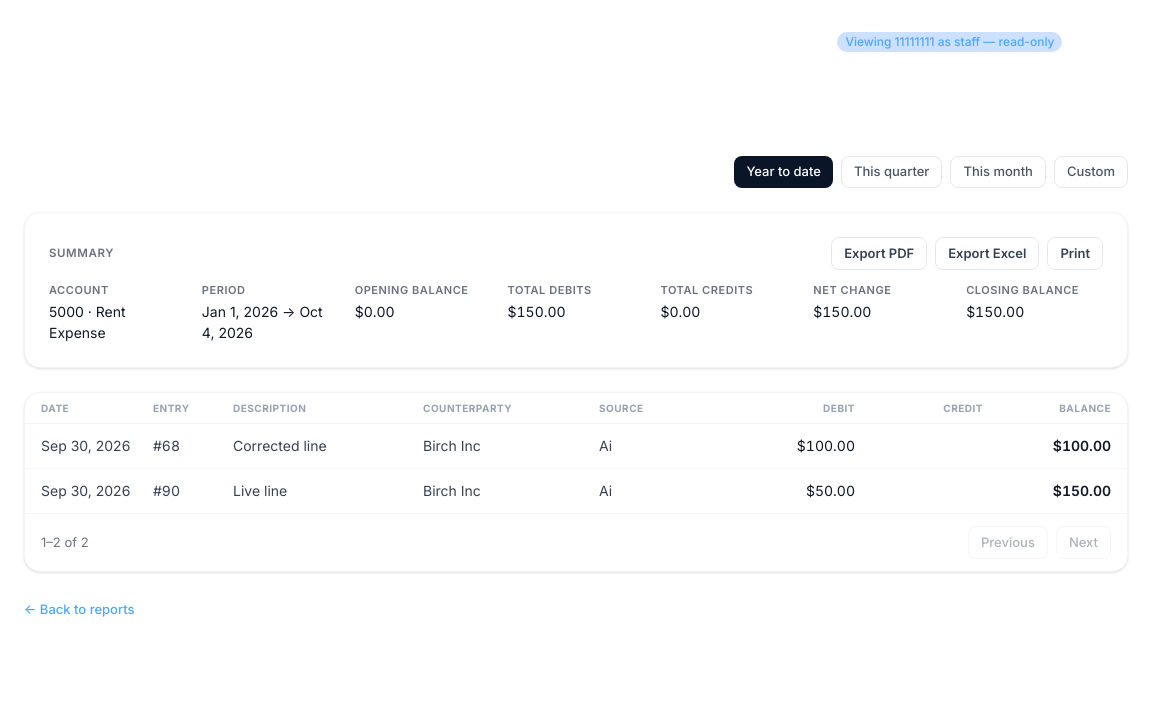
staff account ledger — writes on the live entry only (D-S85-13) › offers the staff writes on a live entry
The image size is (1152, 720).
Click the text "Live line".
click(260, 490)  # box [217, 468, 407, 513]
(page scrolled)
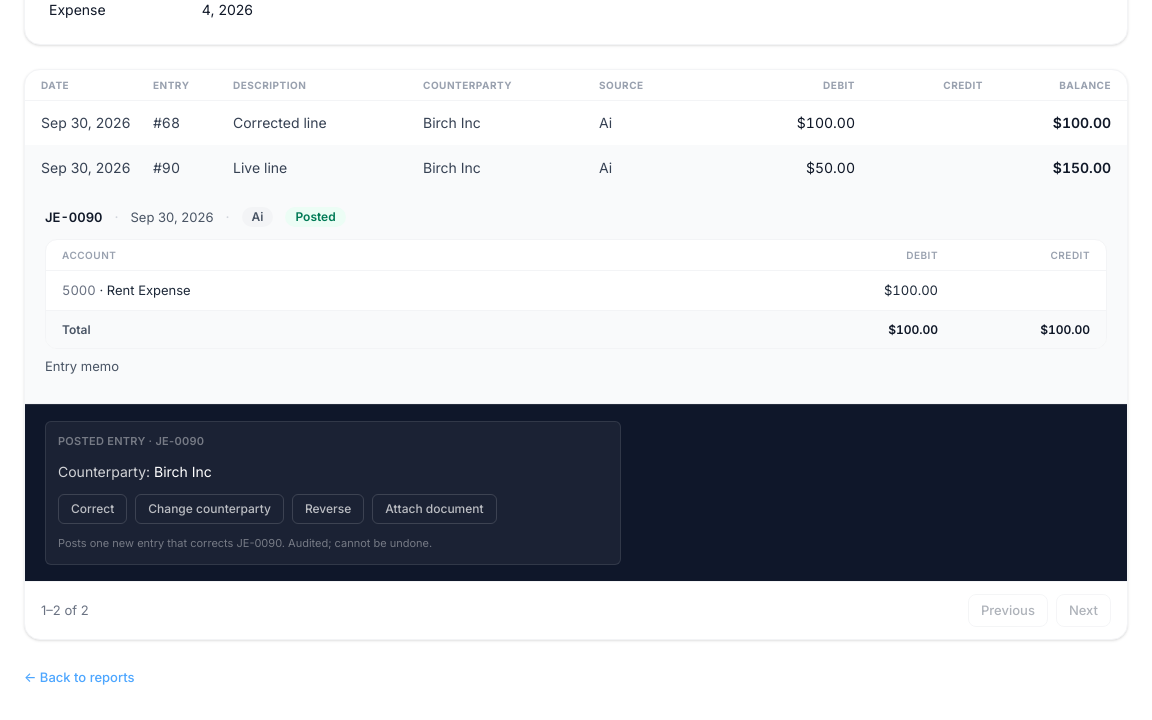
Now the button "Correct" is shown, box [58, 494, 127, 524]
